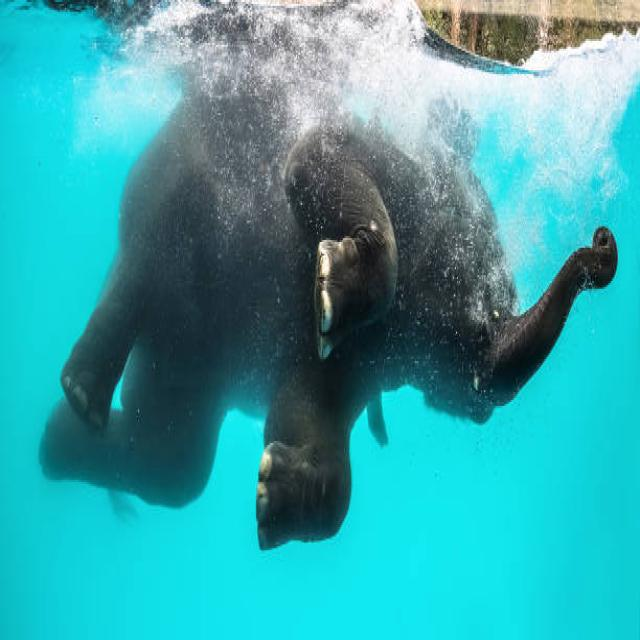Elephant: (37, 86, 618, 564)
